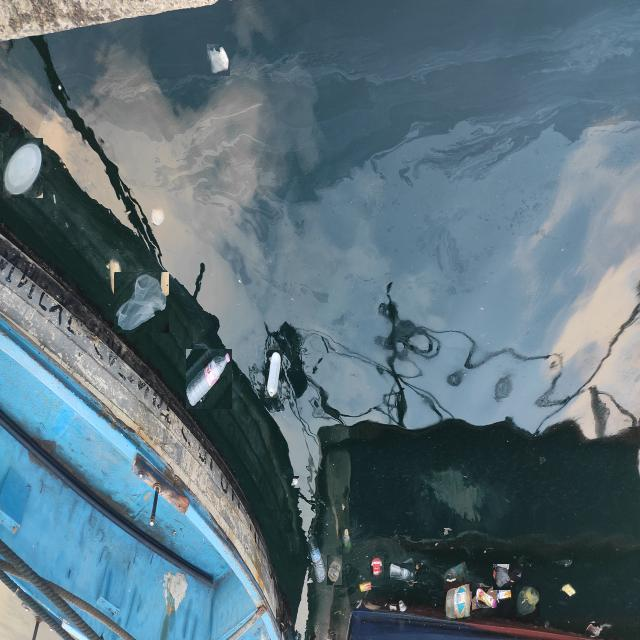Juice box: (494, 583, 512, 604)
Plastic: (3, 138, 43, 198), (207, 44, 230, 76), (552, 556, 574, 569), (443, 526, 453, 538), (290, 476, 299, 488), (389, 604, 397, 612)
Plastic bag: (114, 272, 169, 333), (494, 564, 524, 590), (516, 585, 540, 617)
Plastic bottle: (186, 348, 232, 408), (306, 528, 326, 586), (444, 582, 472, 620), (265, 350, 282, 398), (327, 554, 342, 584), (389, 563, 415, 580), (476, 587, 497, 608), (342, 527, 352, 553)
Plastic cup: (586, 622, 600, 636), (398, 600, 408, 613)
Plastic packaging: (370, 556, 384, 577), (561, 582, 576, 598), (358, 581, 372, 593)
